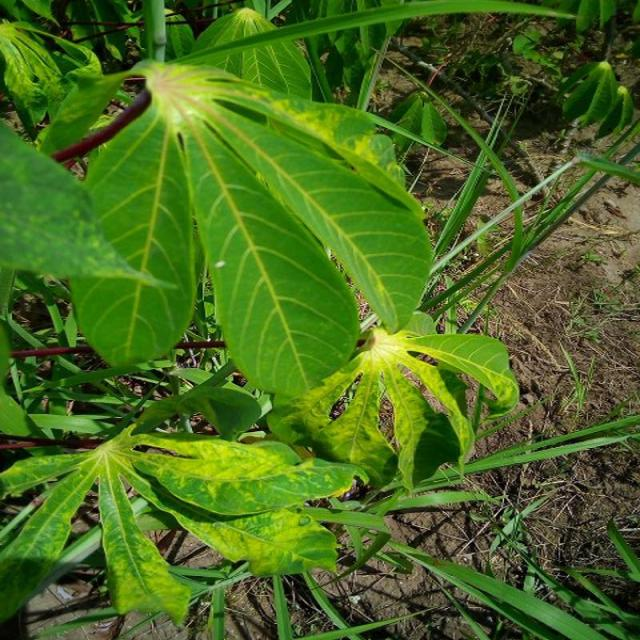cassava leaf: (66, 59, 434, 399), (67, 95, 198, 369)
